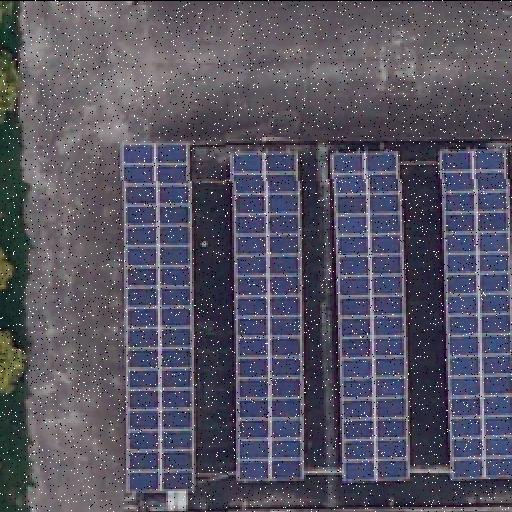solar-panel: (220, 146, 312, 488), (328, 143, 412, 483), (121, 138, 195, 496), (438, 145, 512, 485)
